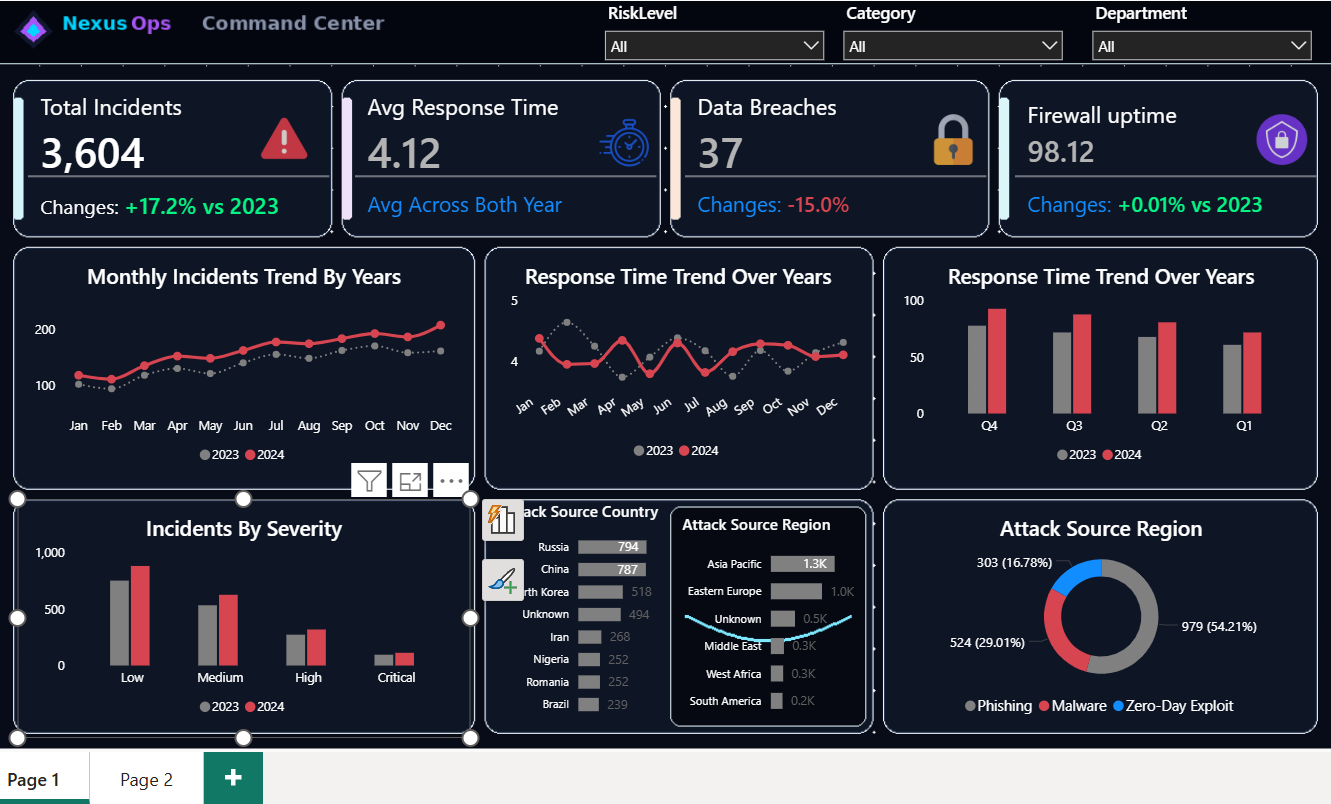

The dashboard page shown, as its layout file describes it:
{"tool":"powerbi","page":{"name":"Page 1","canvas":[1280,720],"ordinal":0},"visuals":[{"type":"cardVisual","fields":{"Data":["DAX Formula.Total Incidents"]},"box":[28.8,87.7,289.1,135.2],"z":0},{"type":"cardVisual","fields":{"Data":["DAX Formula.Avg Response Time"]},"box":[342.8,87.2,289,135],"z":1000},{"type":"cardVisual","fields":{"Data":["DAX Formula.Data Breaches"]},"box":[658.7,87.2,289,135],"z":2000},{"type":"cardVisual","fields":{"Data":["DAX Formula.Firewall uptime"]},"box":[974.6,87.2,289.1,135],"z":3000},{"type":"lineChart","title":"Monthly Incidents Trend By Years","fields":{"Category":["dim_date.MonthAbbr"],"Series":["dim_date.Year"],"Y":["DAX Formula.Total Incidents"]},"box":[18.7,235.9,434.3,228.7],"z":4000},{"type":"lineChart","title":"Response Time Trend Over Years","fields":{"Category":["dim_date.MonthAbbr"],"Series":["dim_date.Year"],"Y":["DAX Formula.Avg Response Time"]},"box":[467.4,235.9,369.6,224.3],"z":5000},{"type":"clusteredColumnChart","title":"Response Time Trend Over Years","fields":{"Category":["dim_date.Quarter"],"Series":["dim_date.Year"],"Y":["DAX Formula.Patch Rate"]},"box":[851.4,235.9,412.7,228.7],"z":6000},{"type":"clusteredColumnChart","title":"Incidents By Serverity","fields":{"Category":["dim_severity.Severity"],"Series":["dim_date.Year"],"Y":["DAX Formula.Total Incidents"]},"box":[18.7,477.5,434.3,228.7],"z":7000},{"type":"barChart","title":"Attack Source Country","fields":{"Category":["dim_attack_source.Country"],"Y":["DAX Formula.Total Incidents"]},"box":[467.4,464.5,191.3,241.6],"z":8000},{"type":"barChart","title":"Attack Source Region","fields":{"Category":["dim_attack_source.Region"],"Y":["DAX Formula.Total Incidents"]},"box":[640,477.5,197,228.7],"z":9000},{"type":"donutChart","title":"Attack Source Region","fields":{"Category":["dim_attack_type.AttackType"],"Y":["DAX Formula.Total Incidents"]},"box":[851.4,477.5,412.7,228.7],"z":10000},{"type":"image","box":[238.7,100.7,71.9,63.3],"z":11000},{"type":"image","box":[577.2,112.2,47.5,47.5],"z":12000},{"type":"image","box":[891.2,107.9,48.9,50.3],"z":13000},{"type":"image","box":[1206.6,107.9,48.9,50.3],"z":14000},{"type":"slicer","fields":{"Values":["dim_department.Department"]},"box":[1044.3,0,220.5,59.9],"z":15000},{"type":"slicer","fields":{"Values":["dim_attack_type.Category"]},"box":[804.9,0,220.5,59.9],"z":16000},{"type":"slicer","fields":{"Values":["dim_attack_type.RiskLevel"]},"box":[576.5,0,220.5,59.9],"z":17000}]}

Visuals, with their boxes on the page's 1280x720 design canvas (x1, y1, x2, y2). These are canvas units, not pixel positions in the 1331x804 screenshot, which may show the page scaled, cropped or inside an application window:
cardVisual - DAX Formula.Total Incidents: Rect(29, 88, 318, 223)
cardVisual - DAX Formula.Avg Response Time: Rect(343, 87, 632, 222)
cardVisual - DAX Formula.Data Breaches: Rect(659, 87, 948, 222)
cardVisual - DAX Formula.Firewall uptime: Rect(975, 87, 1264, 222)
"Monthly Incidents Trend By Years" lineChart: Rect(19, 236, 453, 465)
"Response Time Trend Over Years" lineChart: Rect(467, 236, 837, 460)
"Response Time Trend Over Years" clusteredColumnChart: Rect(851, 236, 1264, 465)
"Incidents By Serverity" clusteredColumnChart: Rect(19, 478, 453, 706)
"Attack Source Country" barChart: Rect(467, 464, 659, 706)
"Attack Source Region" barChart: Rect(640, 478, 837, 706)
"Attack Source Region" donutChart: Rect(851, 478, 1264, 706)
image: Rect(239, 101, 311, 164)
image: Rect(577, 112, 625, 160)
image: Rect(891, 108, 940, 158)
image: Rect(1207, 108, 1256, 158)
slicer - dim_department.Department: Rect(1044, 0, 1265, 60)
slicer - dim_attack_type.Category: Rect(805, 0, 1025, 60)
slicer - dim_attack_type.RiskLevel: Rect(576, 0, 797, 60)
